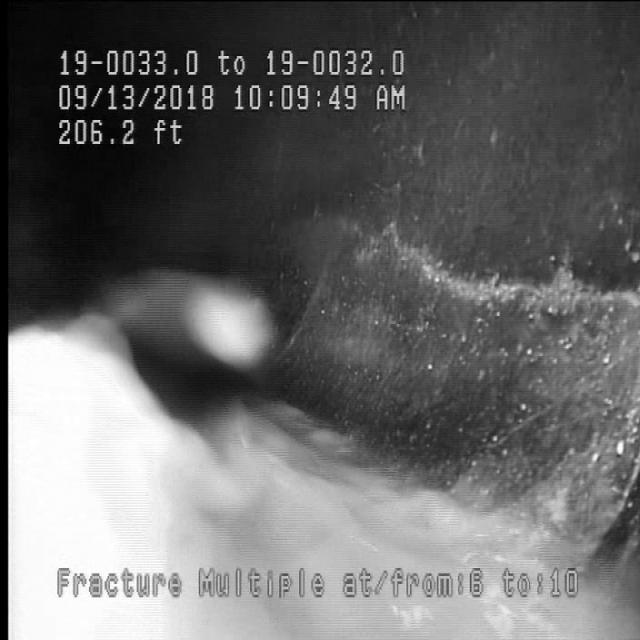Crack: (350, 190, 610, 338)
